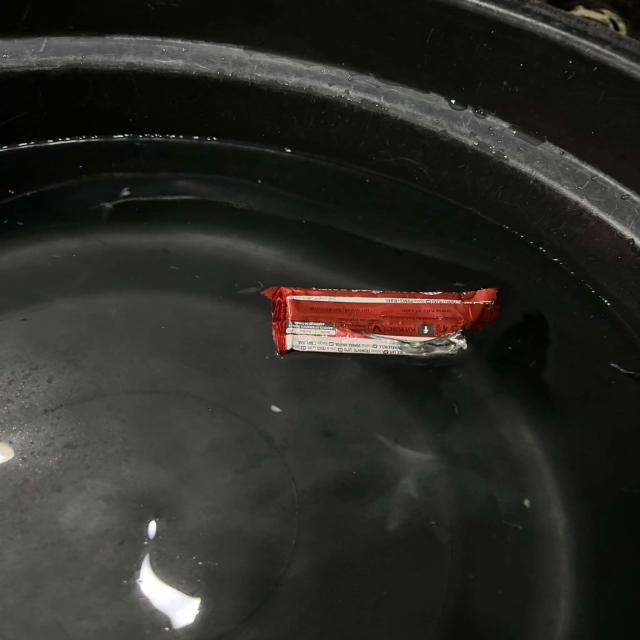Plastic Wrapper: (262, 287, 499, 359)
